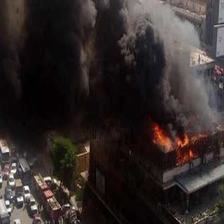fire: (95, 41, 205, 165)
